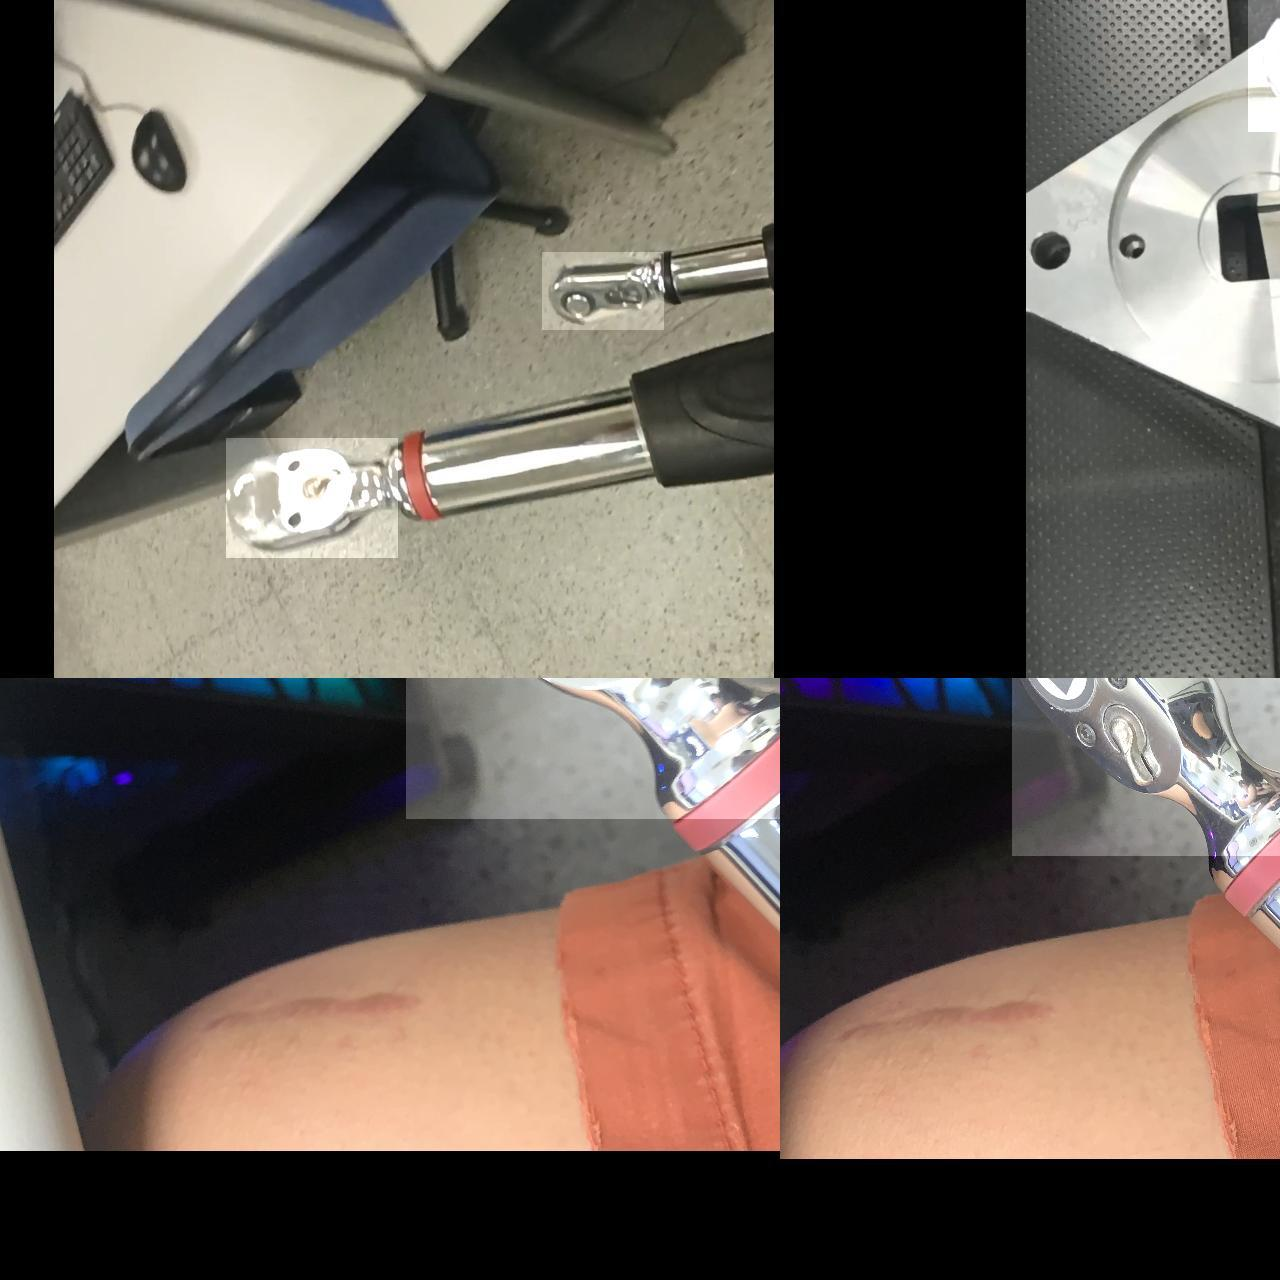Tool: (406, 678, 779, 818), (1012, 678, 1280, 855), (226, 437, 399, 557), (542, 251, 663, 329)
